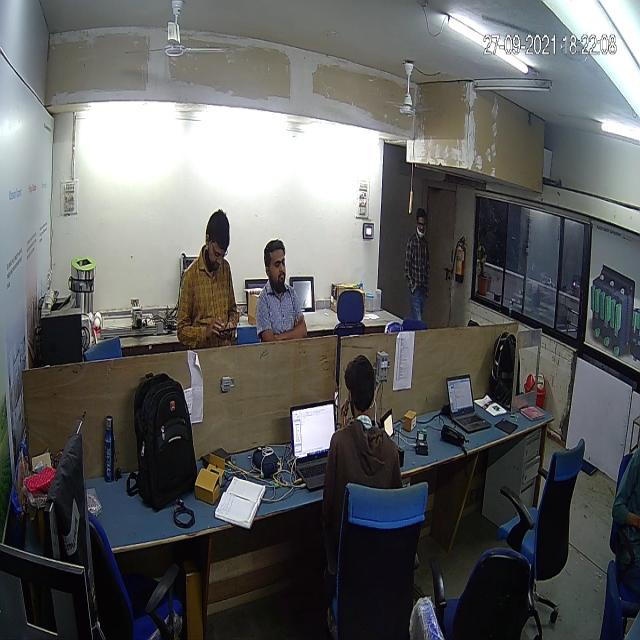adult: (174, 207, 244, 364), (251, 228, 315, 353)
